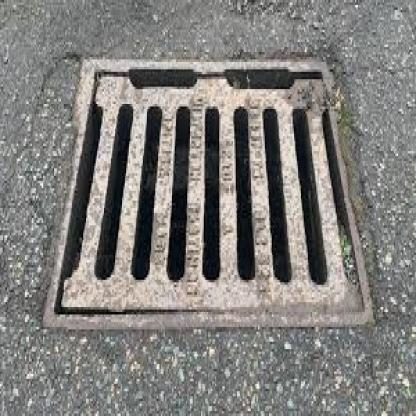open drainage-not overflowing-: (51, 41, 384, 344)
